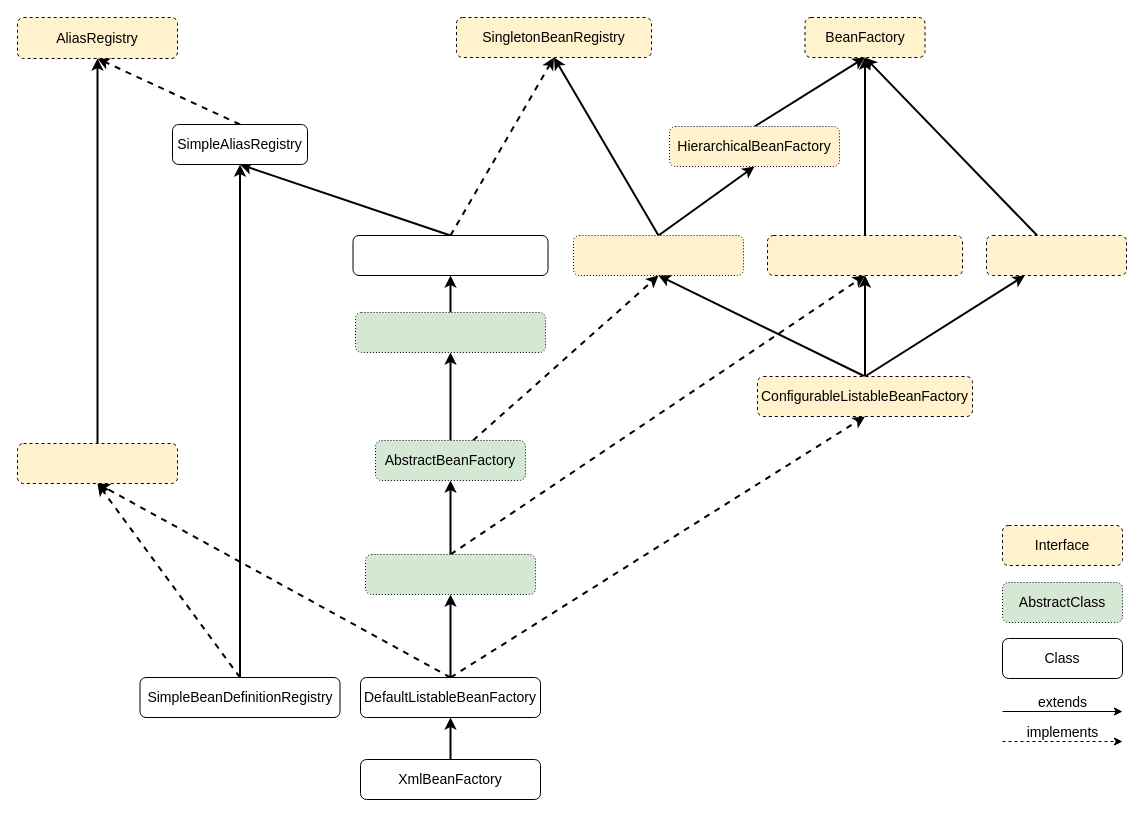
Some shapes in this 1148 by 817 pixel diagram are drawn without their labels. Here are the shapes that lost their labels. From the top down, the box of each, then its label:
(352, 234, 548, 276): DefaultSingletonBeanRegistry
(572, 234, 744, 276): ConfigurableBeanFactory
(766, 234, 962, 276): AutowireCapableBeanFactory
(986, 234, 1126, 276): ListableBeanFactory
(354, 312, 546, 352): FactoryBeanRegistrySupport
(16, 442, 178, 484): BeanDefinitionRegistry
(364, 554, 536, 594): AbstractAutowireCapable BeanFactory
